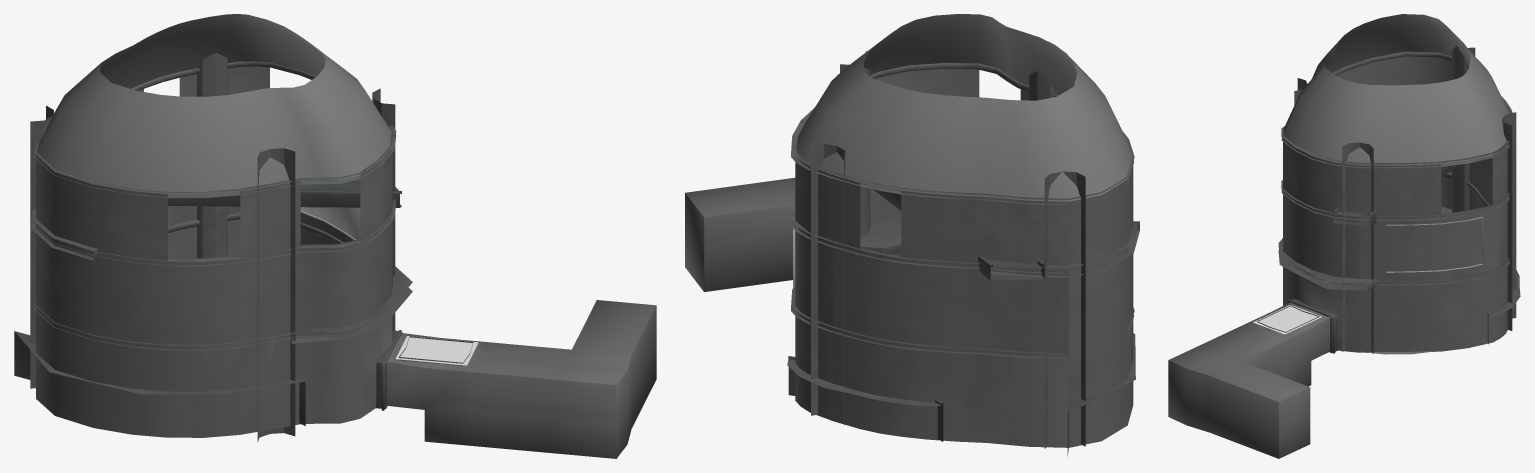
The model's file is enviro.fbx.
3 views of the same model, side by side, from view 1: azimuth 30°, elevation 25°; view 2: azimuth 150°, elevation 25°; view 3: azimuth 270°, elevation 25° (orthographic). The views are drawn at different scales.
Visible parts, largest first — view 1: wall01, wall4, wall02, wall03, columns, breaker01, bridge, podest02, podest03, tutorial light, scoreboard, podest04 (+1 smaller); view 2: wall4, wall01, wall02, wall03, columns, breaker01, podest01, podest03, bridge, podest04, podest02; view 3: wall01, wall4, wall02, wall03, columns, breaker01, podest03, tutorial light, bridge, doorFrame, scoreboard, podest01.
Boxes of the visible parts, x1,y1,x2,y2 form: wall01: (36,219,656,458); wall4: (36,14,391,194); wall02: (36,206,392,346); wall03: (36,66,392,262); columns: (30,53,395,442); breaker01: (34,61,396,350); bridge: (168,179,401,207); podest02: (14,331,305,425); podest03: (291,266,412,343); tutorial light: (395,336,478,365); scoreboard: (300,207,360,240); podest04: (31,209,97,260); wall4: (796,14,1132,201); wall01: (685,177,1133,447); wall02: (795,189,1133,355); wall03: (795,68,1133,271); columns: (811,51,1085,448); breaker01: (791,63,1134,359); podest01: (787,356,943,441); podest03: (860,218,901,254); bridge: (873,189,1044,281); podest04: (978,221,1139,277); podest02: (1067,333,1135,456); wall01: (1168,176,1507,458); wall4: (1283,14,1509,165); wall02: (1283,158,1507,282); wall03: (1283,56,1507,218); columns: (1294,45,1516,353); breaker01: (1281,51,1514,285); podest03: (1278,238,1378,290); tutorial light: (1253,305,1321,334); bridge: (1333,164,1459,226); doorFrame: (1288,298,1337,352); scoreboard: (1386,217,1483,272); podest01: (1487,270,1520,344).
Bounding box in the file's own units: 2453 × 1562 × 1844.
Materials: 16 (15 with a texture image).
